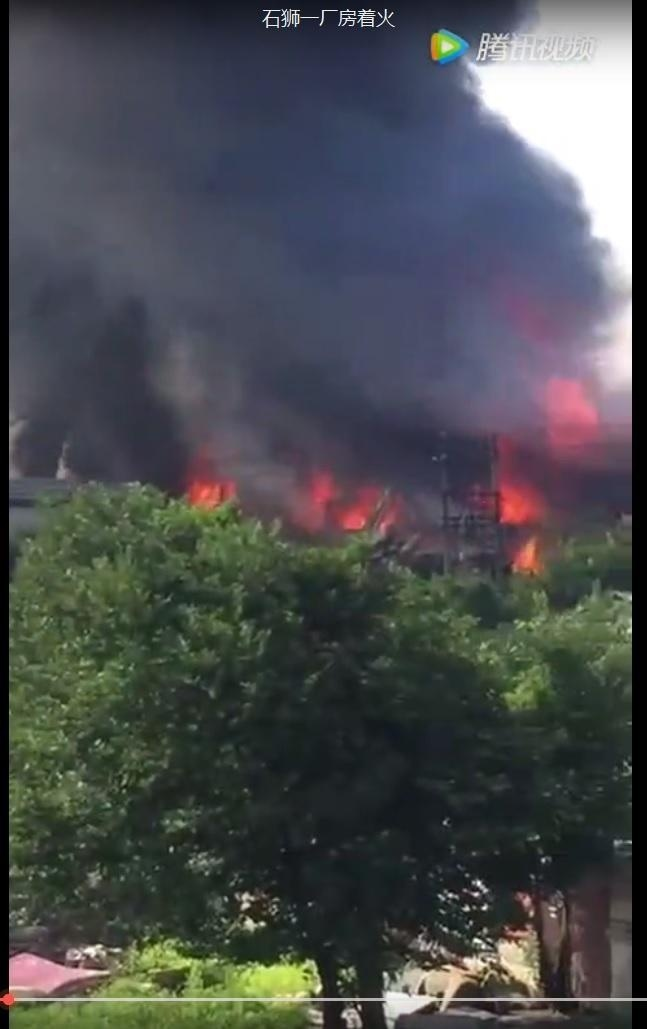fire: (313, 480, 400, 532), (186, 472, 236, 505)
